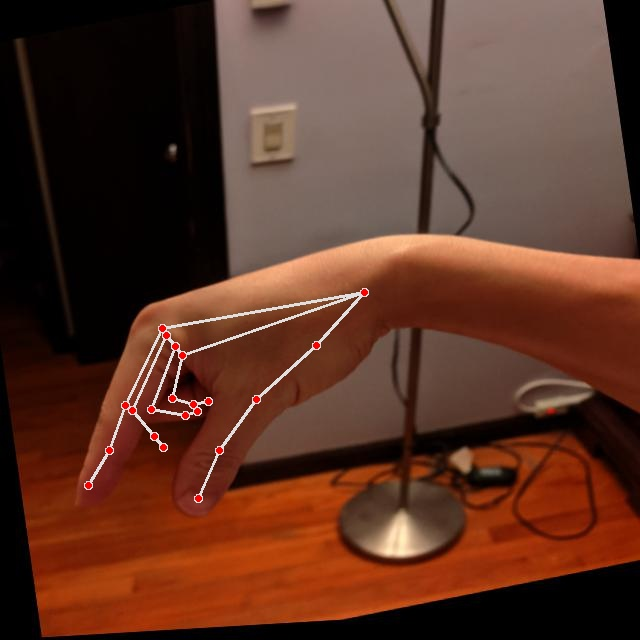Q: (36, 230, 422, 552)
